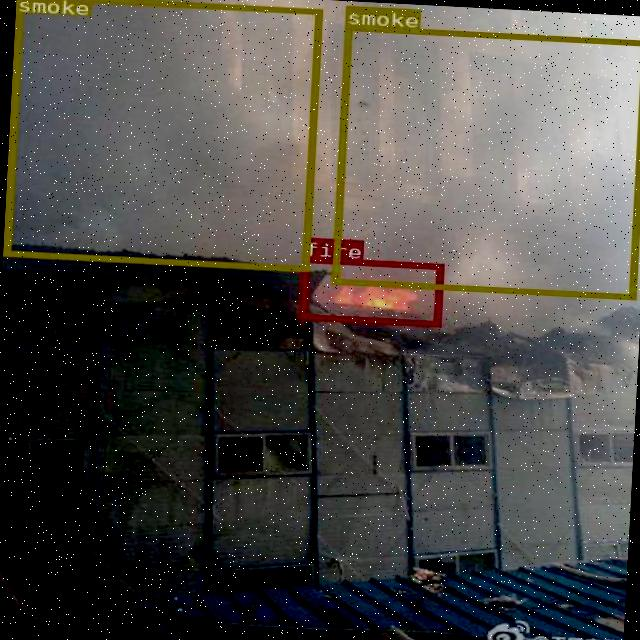fire: (298, 256, 441, 326)
smoke: (3, 0, 320, 270), (331, 24, 640, 299)
